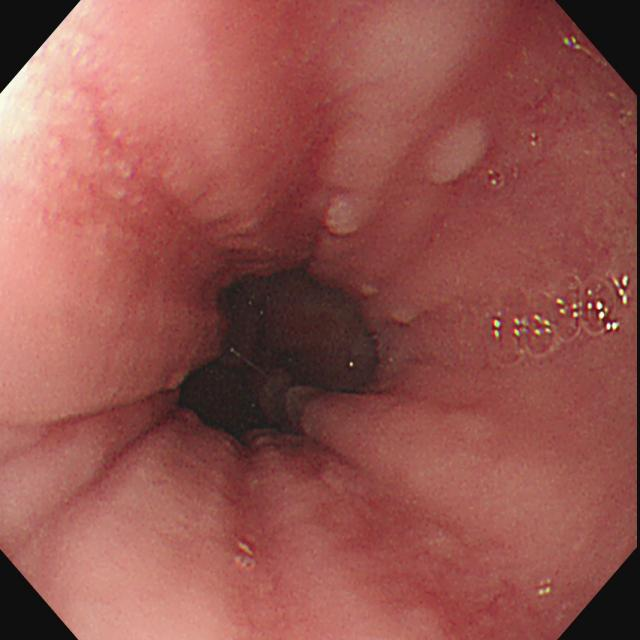D: (338, 500, 443, 613)
E: (172, 252, 376, 462)
J: (425, 108, 497, 188), (314, 189, 374, 243)
T: (487, 273, 617, 367)
